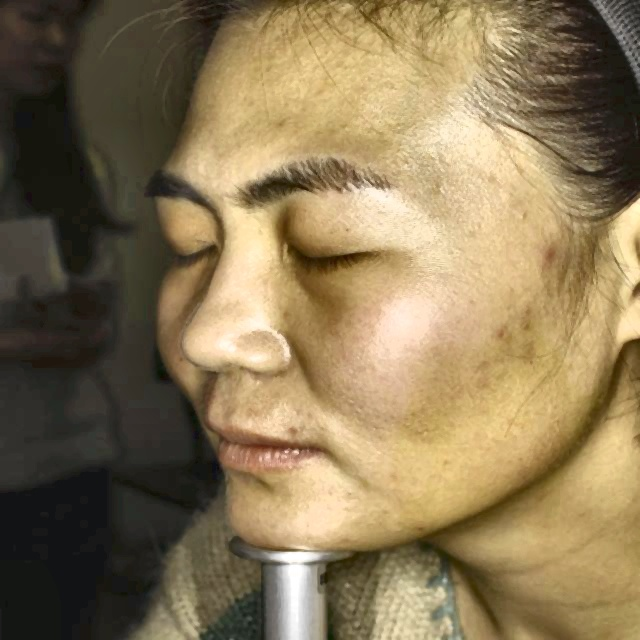comedone: (541, 235, 576, 281), (487, 320, 509, 346)
